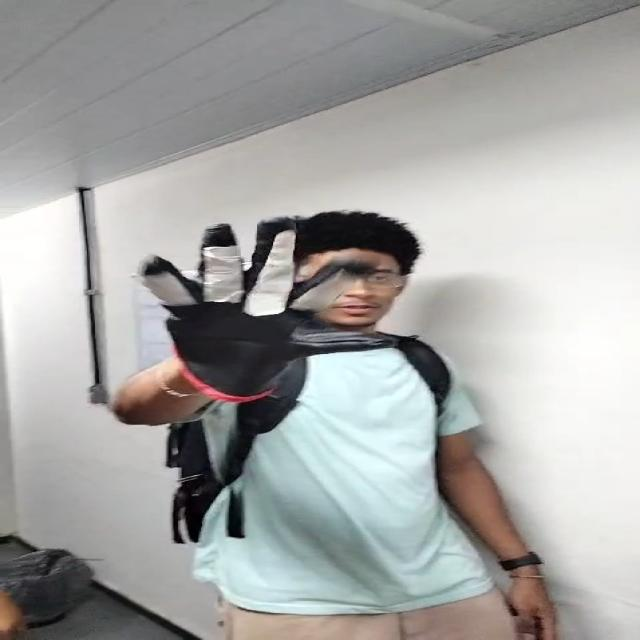Gloves: (140, 218, 392, 394)
